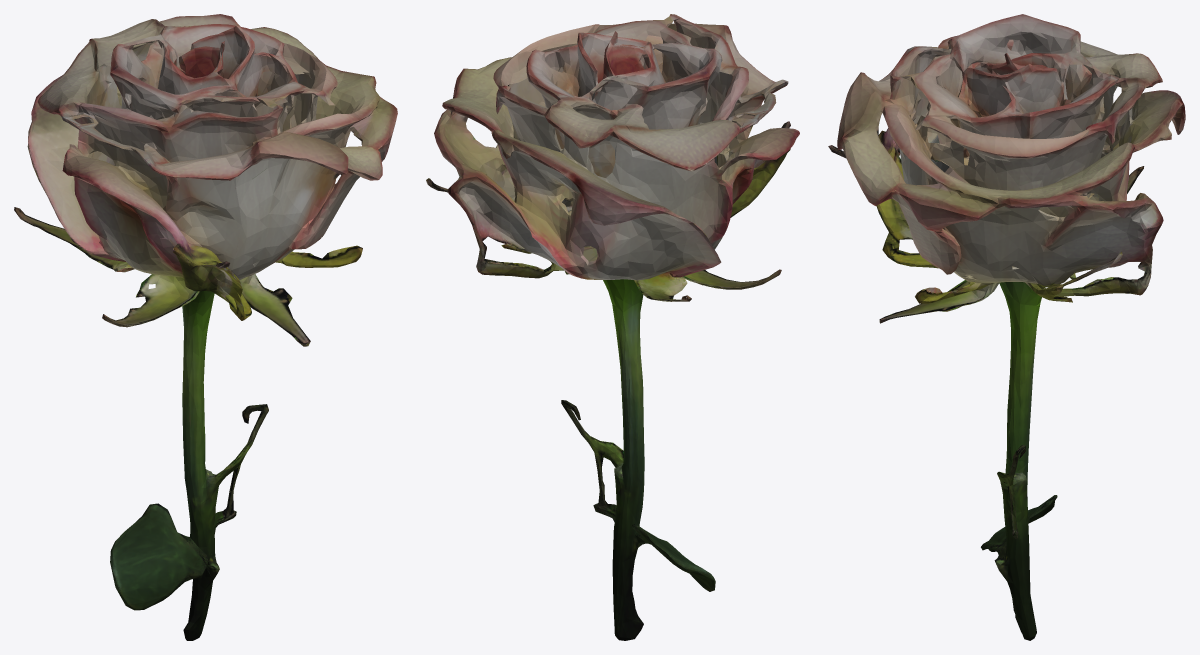
3 renders of one model, left to right at view 1: azimuth 30°, elevation 25°; view 2: azimuth 150°, elevation 25°; view 3: azimuth 270°, elevation 25°, orthographic.
Parts seen in each view (by area): view 1: world; view 2: world; view 3: world.
Boxes of the visible parts, x1,y1,x2,y2 form: world: [14, 14, 397, 640]; world: [426, 14, 799, 640]; world: [828, 14, 1185, 640].
Size of the model in its own units: 0.5254 by 0.946 by 0.5144.
1 material, 1 textured.
